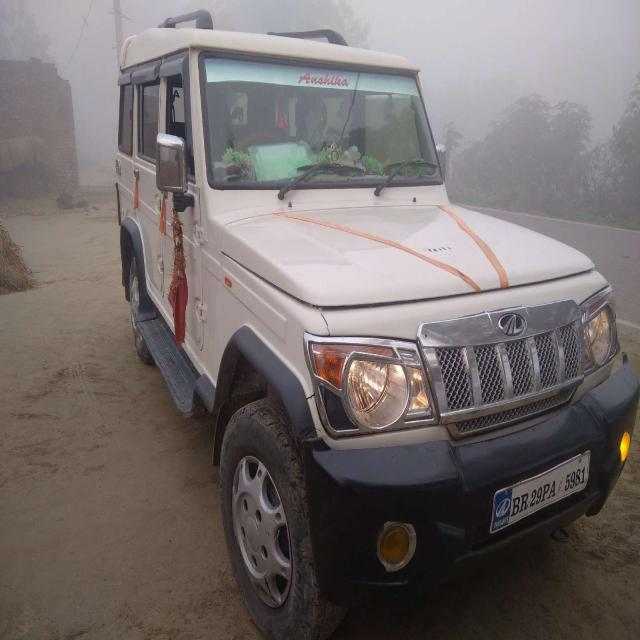light_vehicle: (113, 36, 621, 575)
